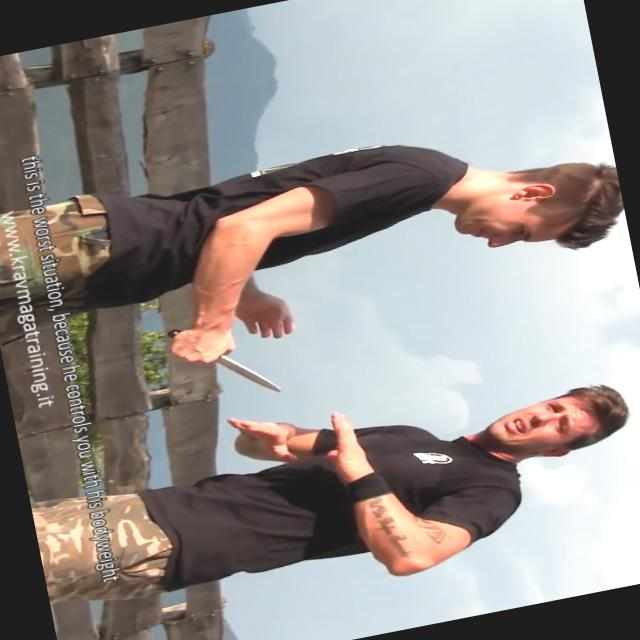knife: (155, 307, 290, 416)
